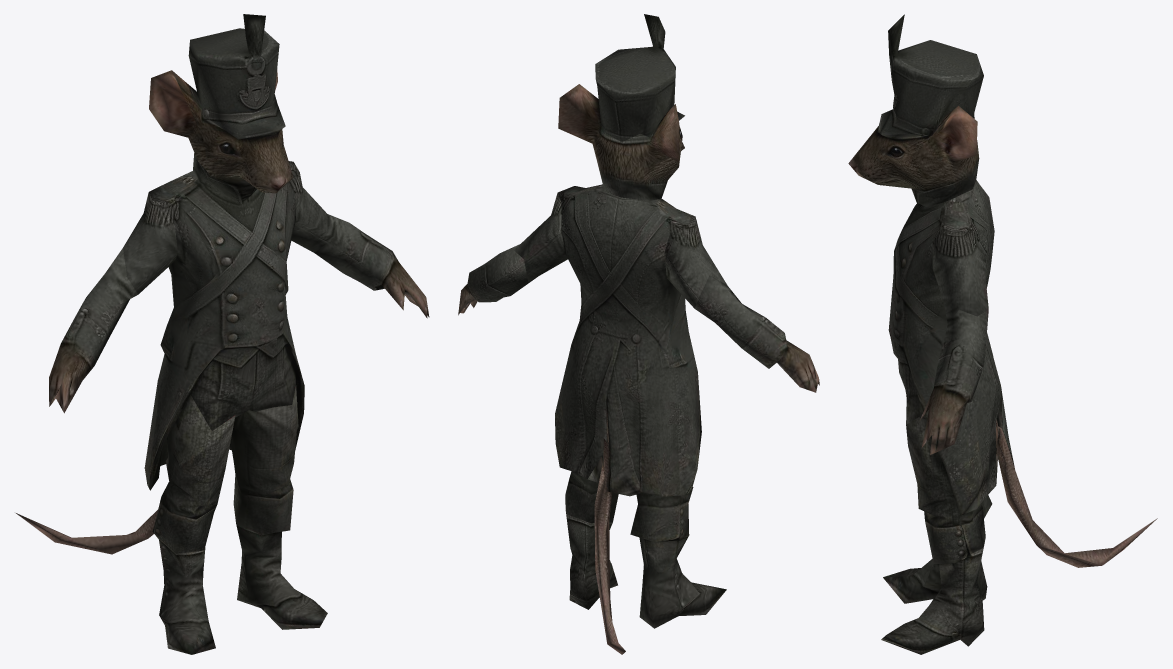
The model's file is infantry_base_gibs.glb.
3 views of the same model, side by side, from view 1: azimuth 30°, elevation 25°; view 2: azimuth 150°, elevation 25°; view 3: azimuth 270°, elevation 25° (orthographic). The views are drawn at different scales.
Parts seen in each view (by area): view 1: Body.001, Head.001, Hat.001, Upleg.R.001, Upleg.L.001, Forarm.R.001, Leg.L.001, Leg.R.001, Forarm.L.001, Arm.R.001, Arm.L.001; view 2: Body.001, Head.001, Hat.001, Forarm.R.001, Leg.R.001, Arm.R.001, Forarm.L.001, Upleg.R.001, Leg.L.001, Arm.L.001, Upleg.L.001; view 3: Body.001, Head.001, Hat.001, Forarm.L.001, Upleg.L.001, Leg.L.001, Arm.L.001, Leg.R.001.
Boxes of the visible parts, x1,y1,x2,y2 form: Body.001: (16, 161, 304, 554); Head.001: (149, 69, 293, 204); Hat.001: (188, 14, 285, 139); Upleg.R.001: (152, 395, 235, 553); Upleg.L.001: (229, 385, 298, 534); Forarm.R.001: (49, 248, 137, 413); Leg.L.001: (236, 523, 327, 629); Leg.R.001: (159, 540, 215, 654); Forarm.L.001: (314, 214, 429, 318); Arm.R.001: (123, 192, 177, 294); Arm.L.001: (291, 163, 334, 252); Body.001: (555, 184, 701, 654); Head.001: (558, 84, 684, 200); Hat.001: (595, 14, 684, 141); Forarm.R.001: (695, 275, 819, 392); Leg.R.001: (639, 536, 726, 628); Arm.R.001: (664, 217, 727, 308); Forarm.L.001: (458, 244, 536, 315); Upleg.R.001: (630, 487, 693, 541); Leg.L.001: (566, 513, 617, 609); Arm.L.001: (514, 193, 567, 281); Upleg.L.001: (565, 457, 618, 522); Body.001: (888, 180, 1157, 567); Head.001: (848, 106, 979, 206); Hat.001: (877, 14, 983, 135); Forarm.L.001: (919, 309, 988, 454); Upleg.L.001: (906, 417, 998, 563); Leg.L.001: (881, 543, 984, 654); Arm.L.001: (932, 229, 988, 323); Leg.R.001: (883, 559, 987, 603).
Bounding box in the file's own units: 0.6229 × 0.9783 × 0.4563.
Materials: 2 (1 with a texture image).
